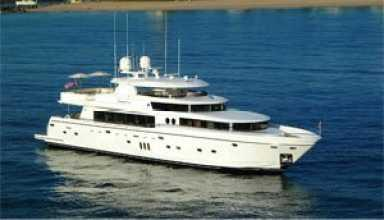yacht: (32, 52, 329, 177)
